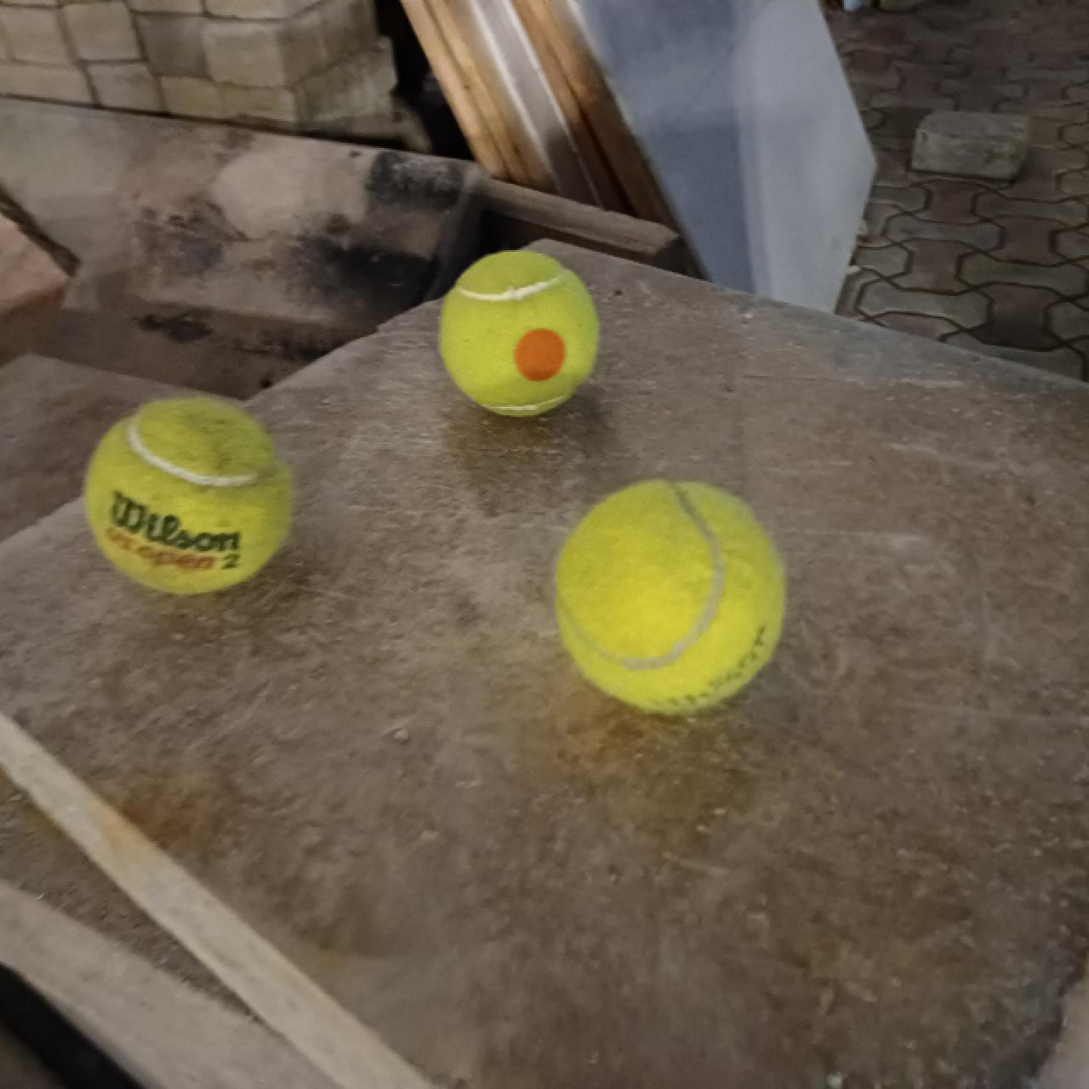tennis-ball: (552, 480, 788, 715), (87, 394, 294, 597), (438, 252, 599, 419)
